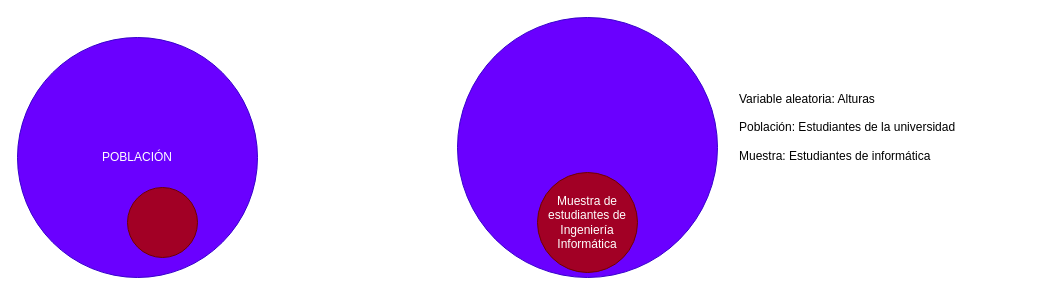
Image size: 1045x295. Some labels were removed from this diagram. Here are the shapes that lost their labels. From the top down, the box of each, then its label:
(456, 16, 718, 278): Alturas de estudiantes de la universidad
(126, 186, 198, 258): MUESTRA
